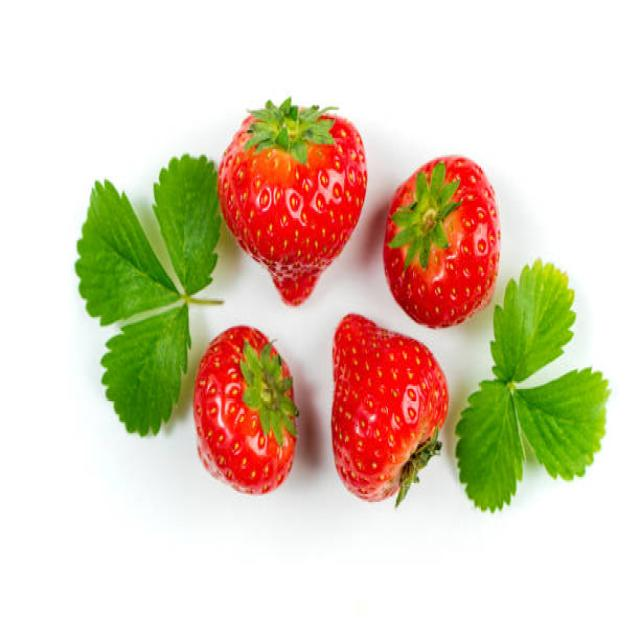Healthy Fruit: (216, 106, 368, 306), (330, 313, 448, 503), (384, 152, 500, 328), (194, 326, 296, 497)
